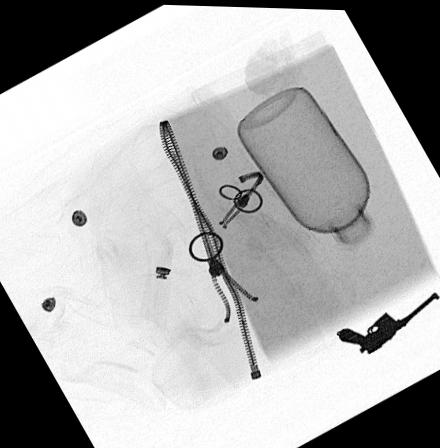Gun: (337, 287, 438, 350)
